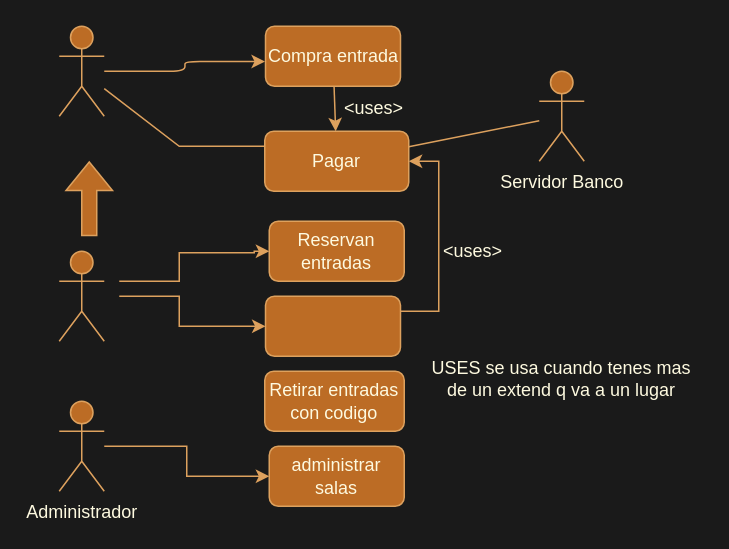
The diagram is 729 pixels wide and 549 high, and some of its shapes have lost their labels. The centre of each missing label's shape, as x and y in pixels:
"Empleado" goes at (x=81, y=295).
"Persona" goes at (x=81, y=70).
"Retirar entradas reservadas" goes at (x=332, y=325).
